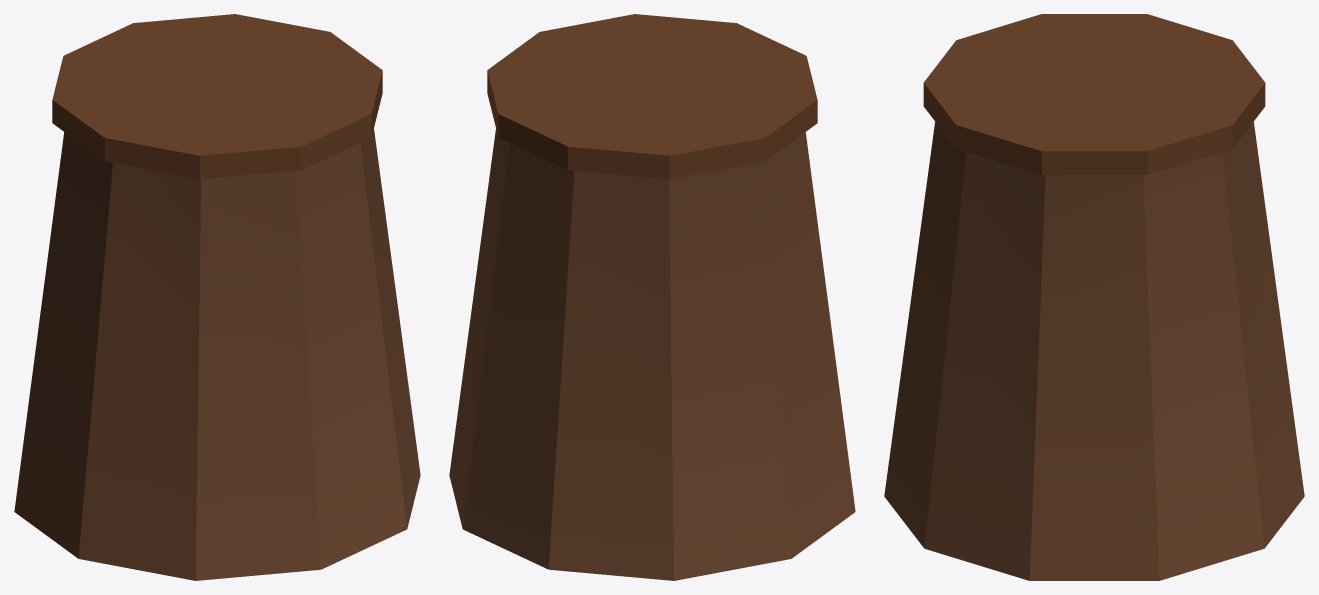
Rendered from lu-nuoc.glb.
3 views of the same model, side by side, from view 1: azimuth 30°, elevation 25°; view 2: azimuth 150°, elevation 25°; view 3: azimuth 270°, elevation 25° (orthographic).
Parts seen in each view (by area): view 1: lu-nuoc; view 2: lu-nuoc; view 3: lu-nuoc.
Part boxes in pixels (x1,y1,x2,y2): lu-nuoc: (14,14,420,580); lu-nuoc: (449,14,855,580); lu-nuoc: (884,14,1304,580).
Bounding box in the file's own units: 0.6087 × 0.695 × 0.64.
